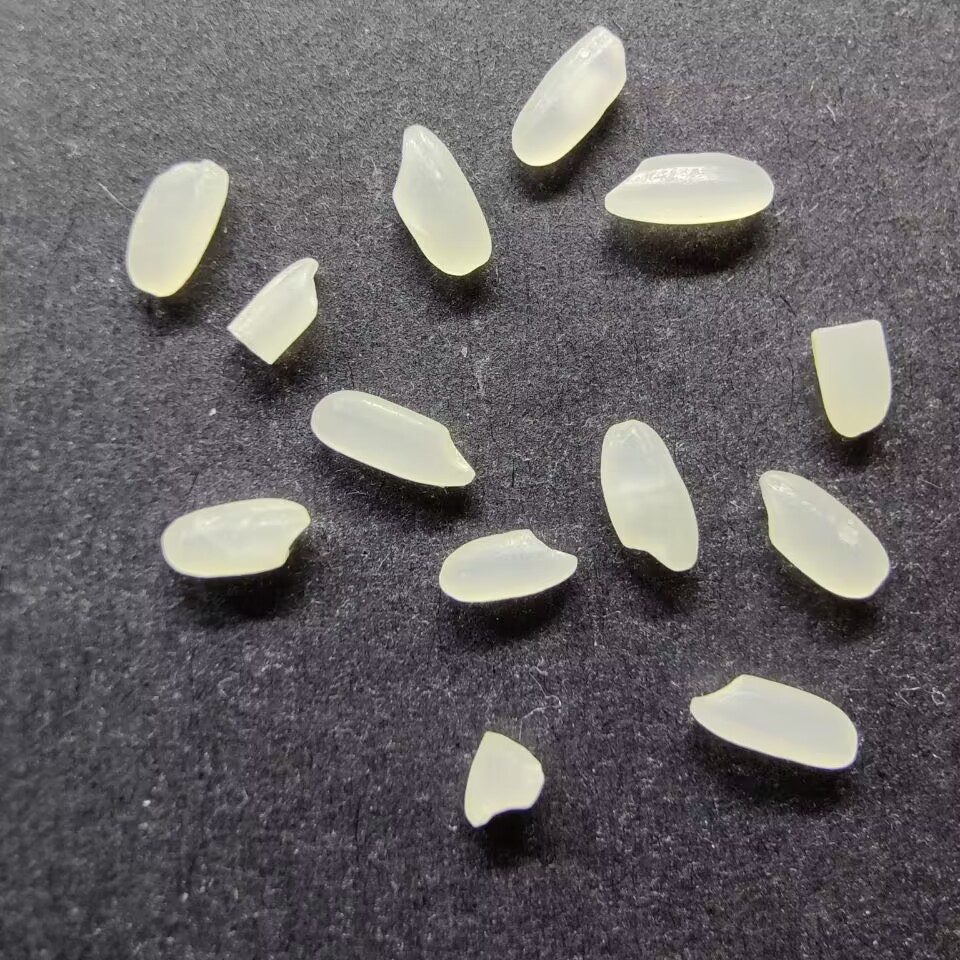broken: (223, 255, 324, 365), (808, 318, 893, 437), (461, 731, 544, 829)
rice: (756, 467, 892, 601), (507, 23, 630, 168), (308, 386, 476, 489), (688, 671, 858, 771), (598, 418, 700, 572), (390, 122, 491, 276), (123, 156, 229, 299), (601, 150, 776, 225), (159, 496, 309, 579), (437, 527, 580, 604)
